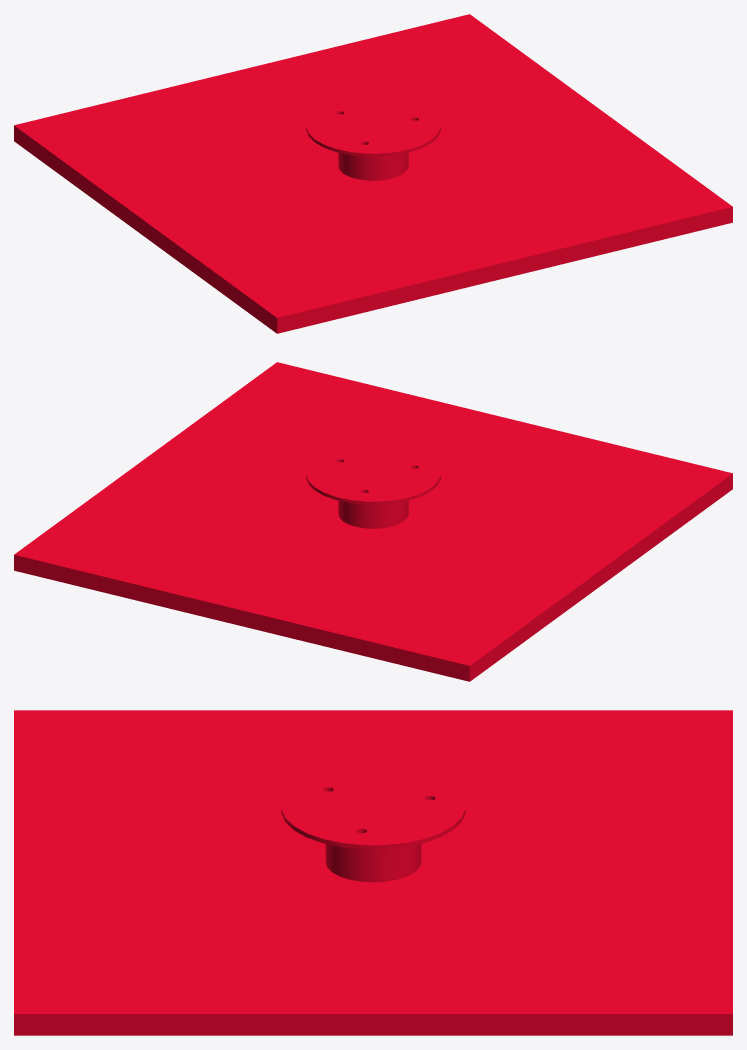
Rendered from forcesensor_mount_top_without_hole.dae.
3 renders of one model, top to bottom at view 1: azimuth 30°, elevation 25°; view 2: azimuth 150°, elevation 25°; view 3: azimuth 270°, elevation 25°, orthographic. The views are drawn at different scales.
Visible parts, largest first — view 1: mesh_1_forcesensor_gornji_dio_2; view 2: mesh_1_forcesensor_gornji_dio_2; view 3: mesh_1_forcesensor_gornji_dio_2.
Boxes of the visible parts, x1,y1,x2,y2 form: mesh_1_forcesensor_gornji_dio_2: [14, 14, 732, 333]; mesh_1_forcesensor_gornji_dio_2: [14, 362, 732, 681]; mesh_1_forcesensor_gornji_dio_2: [14, 710, 732, 1035].
Size of the model in its own units: 0.3 by 0.3 by 0.0357.
